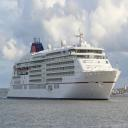cruises: (8, 30, 123, 103)
